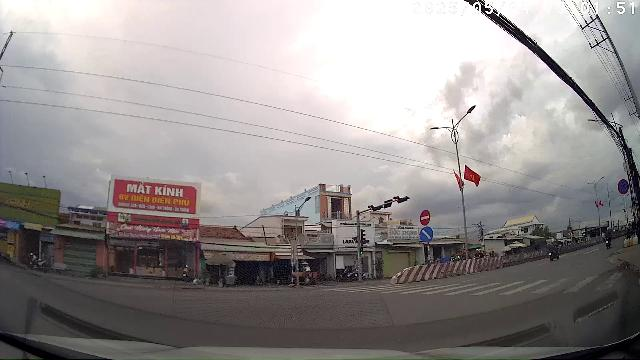102-cam-di-nguoc-chieu: (420, 209, 430, 225)
130-cam-dung-va-do-xe: (617, 180, 629, 195)
302a-huong-phai-di-vong-chuong-ngai-vat-1: (419, 226, 433, 242)
